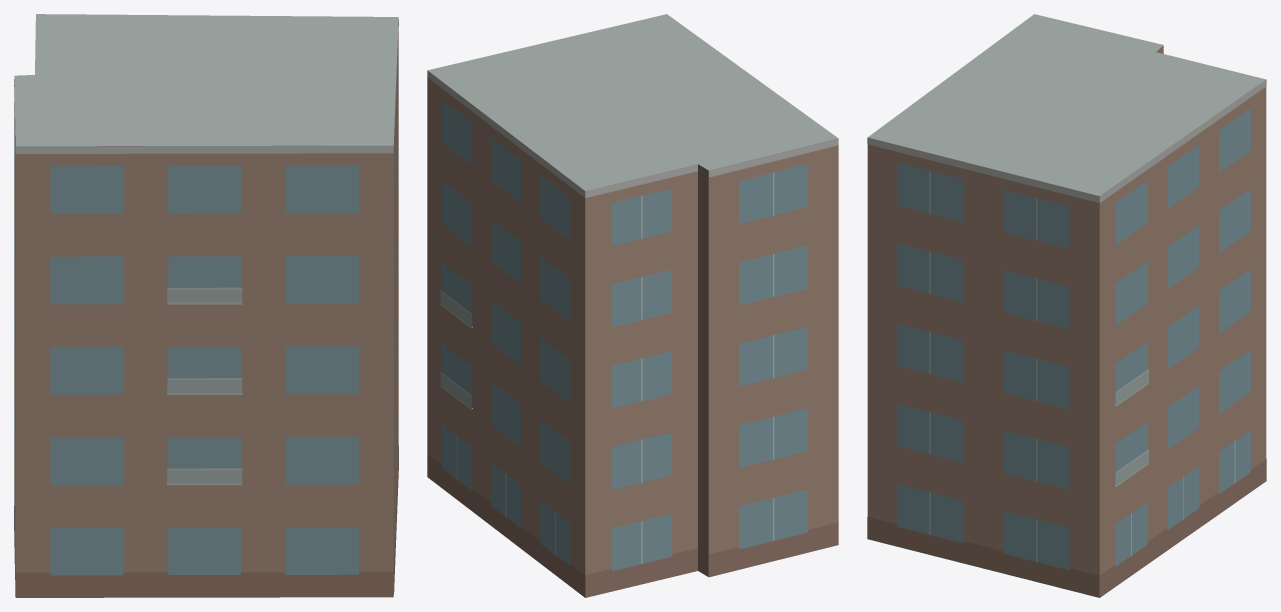
Rendered from survey-upis-32692659.glb.
3 views of the same model, side by side, from view 1: azimuth 30°, elevation 25°; view 2: azimuth 150°, elevation 25°; view 3: azimuth 270°, elevation 25° (orthographic). The views are drawn at different scales.
Visible parts, largest first — view 1: survey-upis-32692659.tmp; view 2: survey-upis-32692659.tmp; view 3: survey-upis-32692659.tmp.
Boxes of the visible parts, x1=… form: survey-upis-32692659.tmp: x1=14, y1=14, x2=398, y2=597; survey-upis-32692659.tmp: x1=427, y1=14, x2=838, y2=597; survey-upis-32692659.tmp: x1=867, y1=14, x2=1266, y2=597.
Size of the model in its own units: 13.82 by 14.2 by 12.79.
